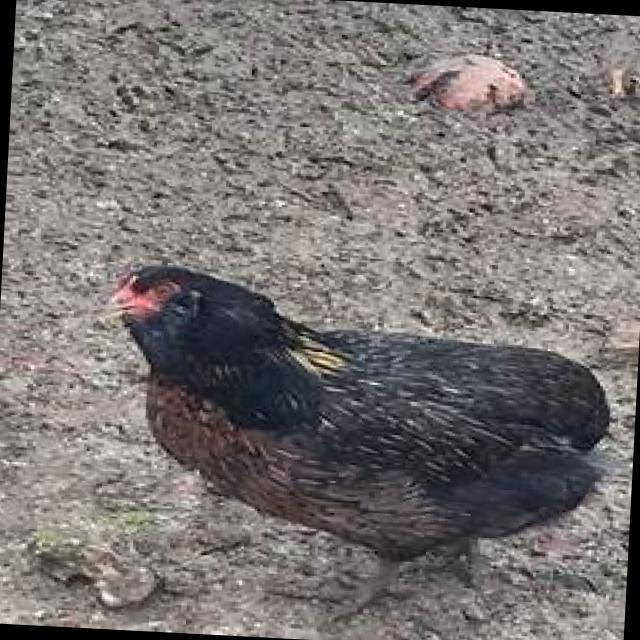animal: (87, 258, 625, 630)
